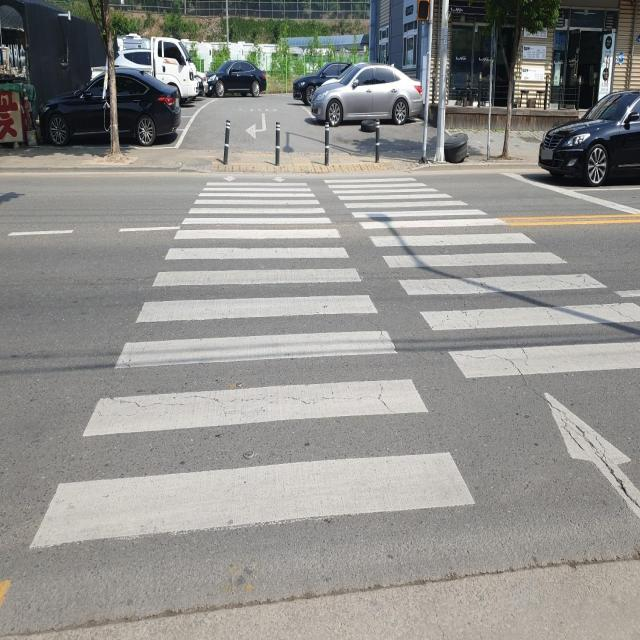횡단보도: (30, 176, 640, 551)
